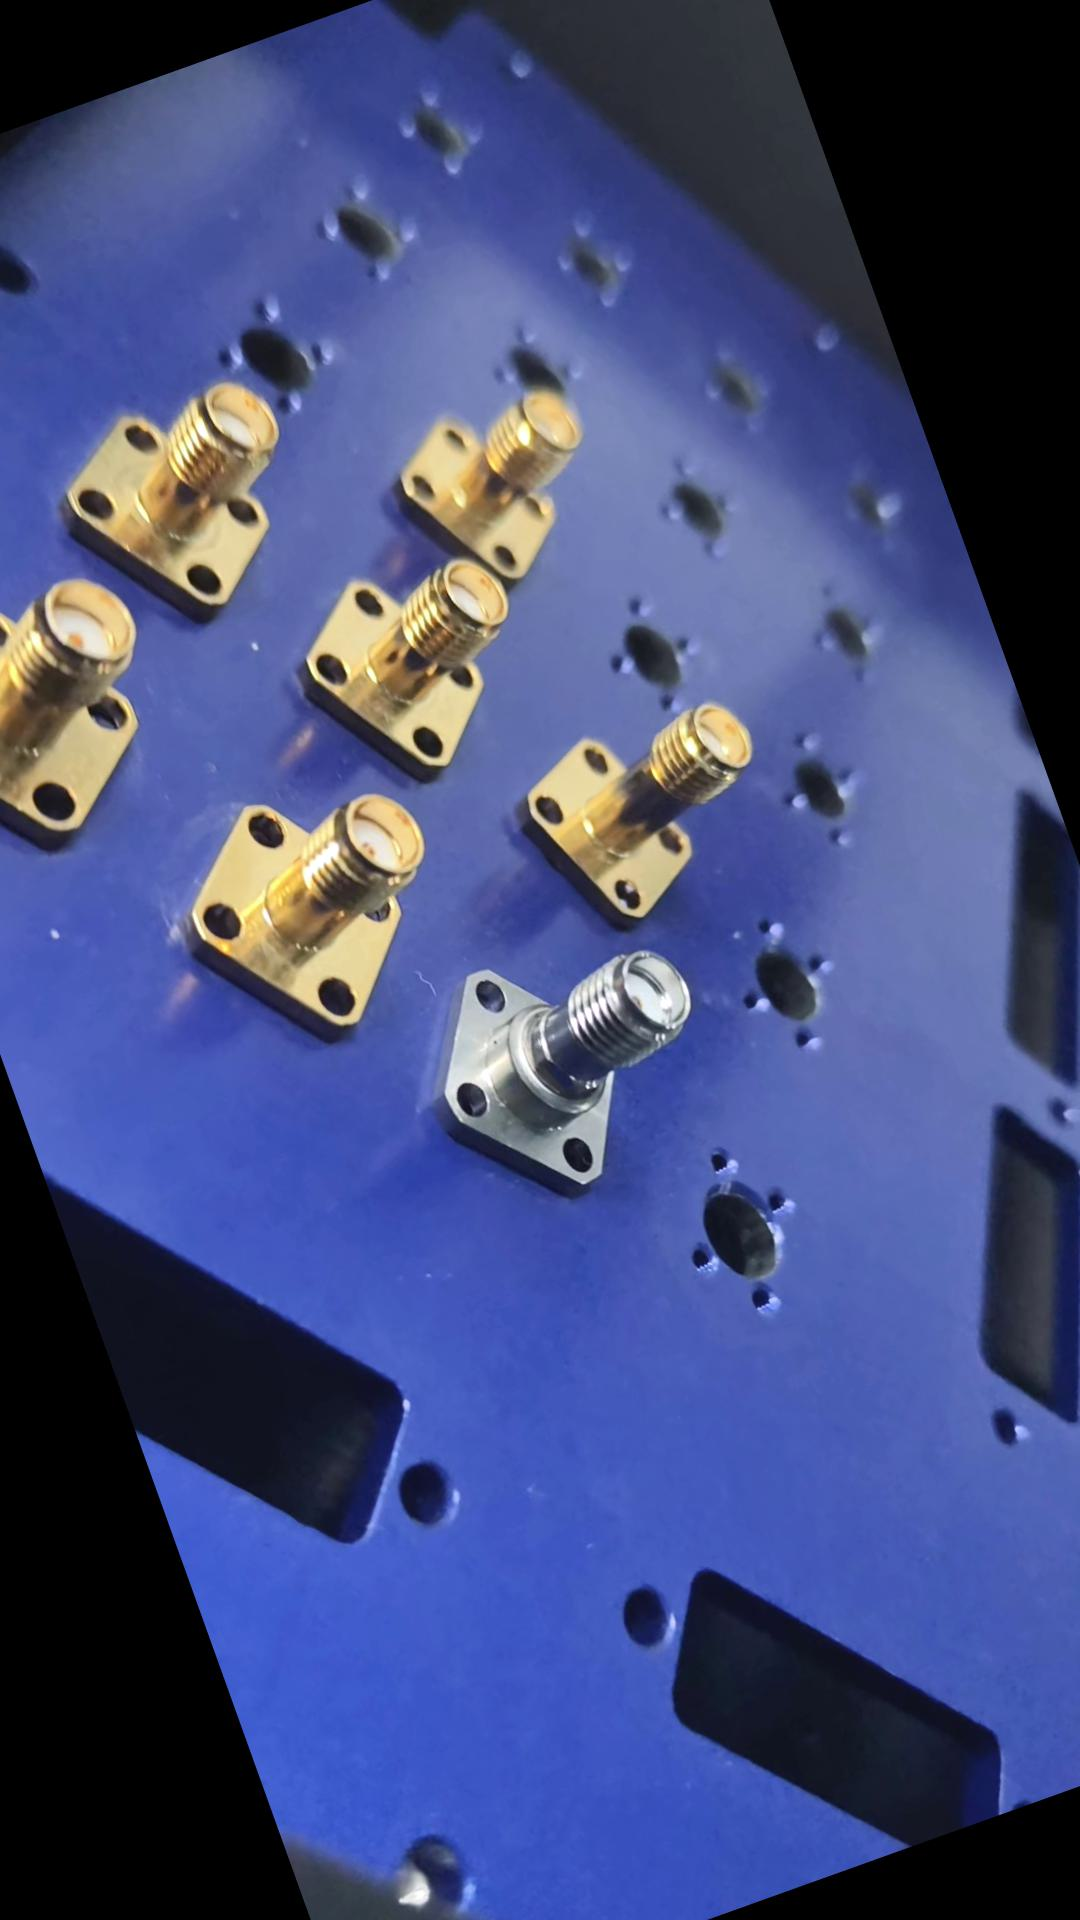SMA: (393, 886, 742, 1221), (145, 741, 473, 1069), (34, 347, 328, 653), (506, 665, 803, 944), (272, 516, 535, 802), (0, 541, 211, 884), (378, 361, 634, 617)
